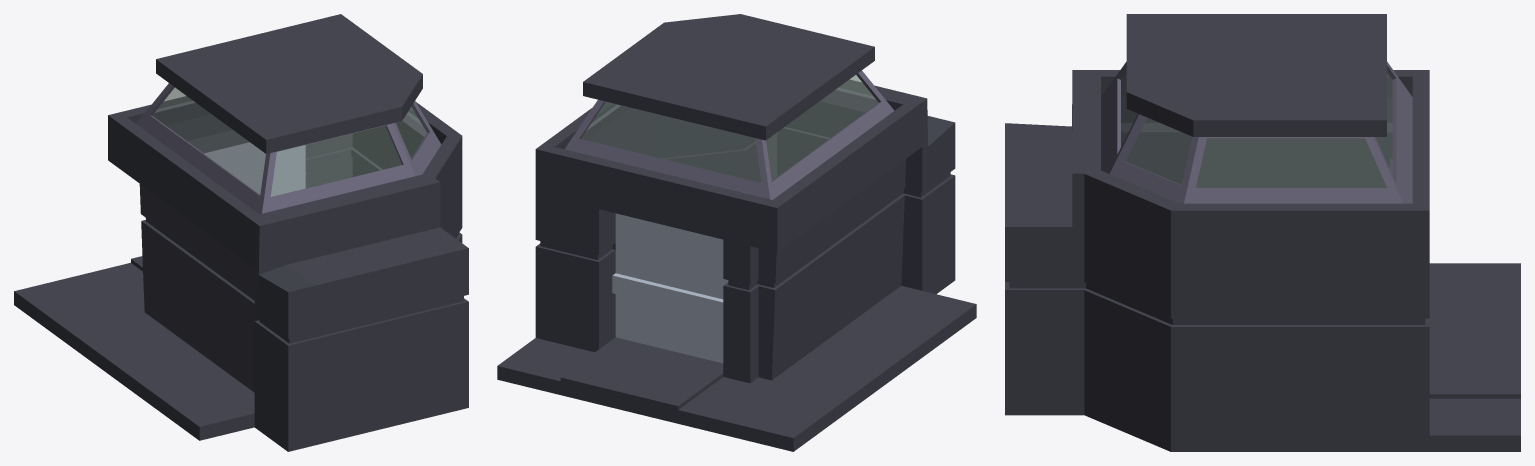
File: 5_Scaffolding.fbx
The picture shows the model from 3 angles, left to right: view 1: azimuth 30°, elevation 25°; view 2: azimuth 150°, elevation 25°; view 3: azimuth 270°, elevation 25°; orthographic projection. The views are drawn at different scales.
Visible parts, largest first — view 1: pasted___pCube14; view 2: pasted___pCube14; view 3: pasted___pCube14.
Boxes of the visible parts, x1,y1,x2,y2 form: pasted___pCube14: (14,14,468,451); pasted___pCube14: (497,14,976,451); pasted___pCube14: (1005,14,1520,451).
Size of the model in its own units: 4.97 by 4.23 by 6.29.
